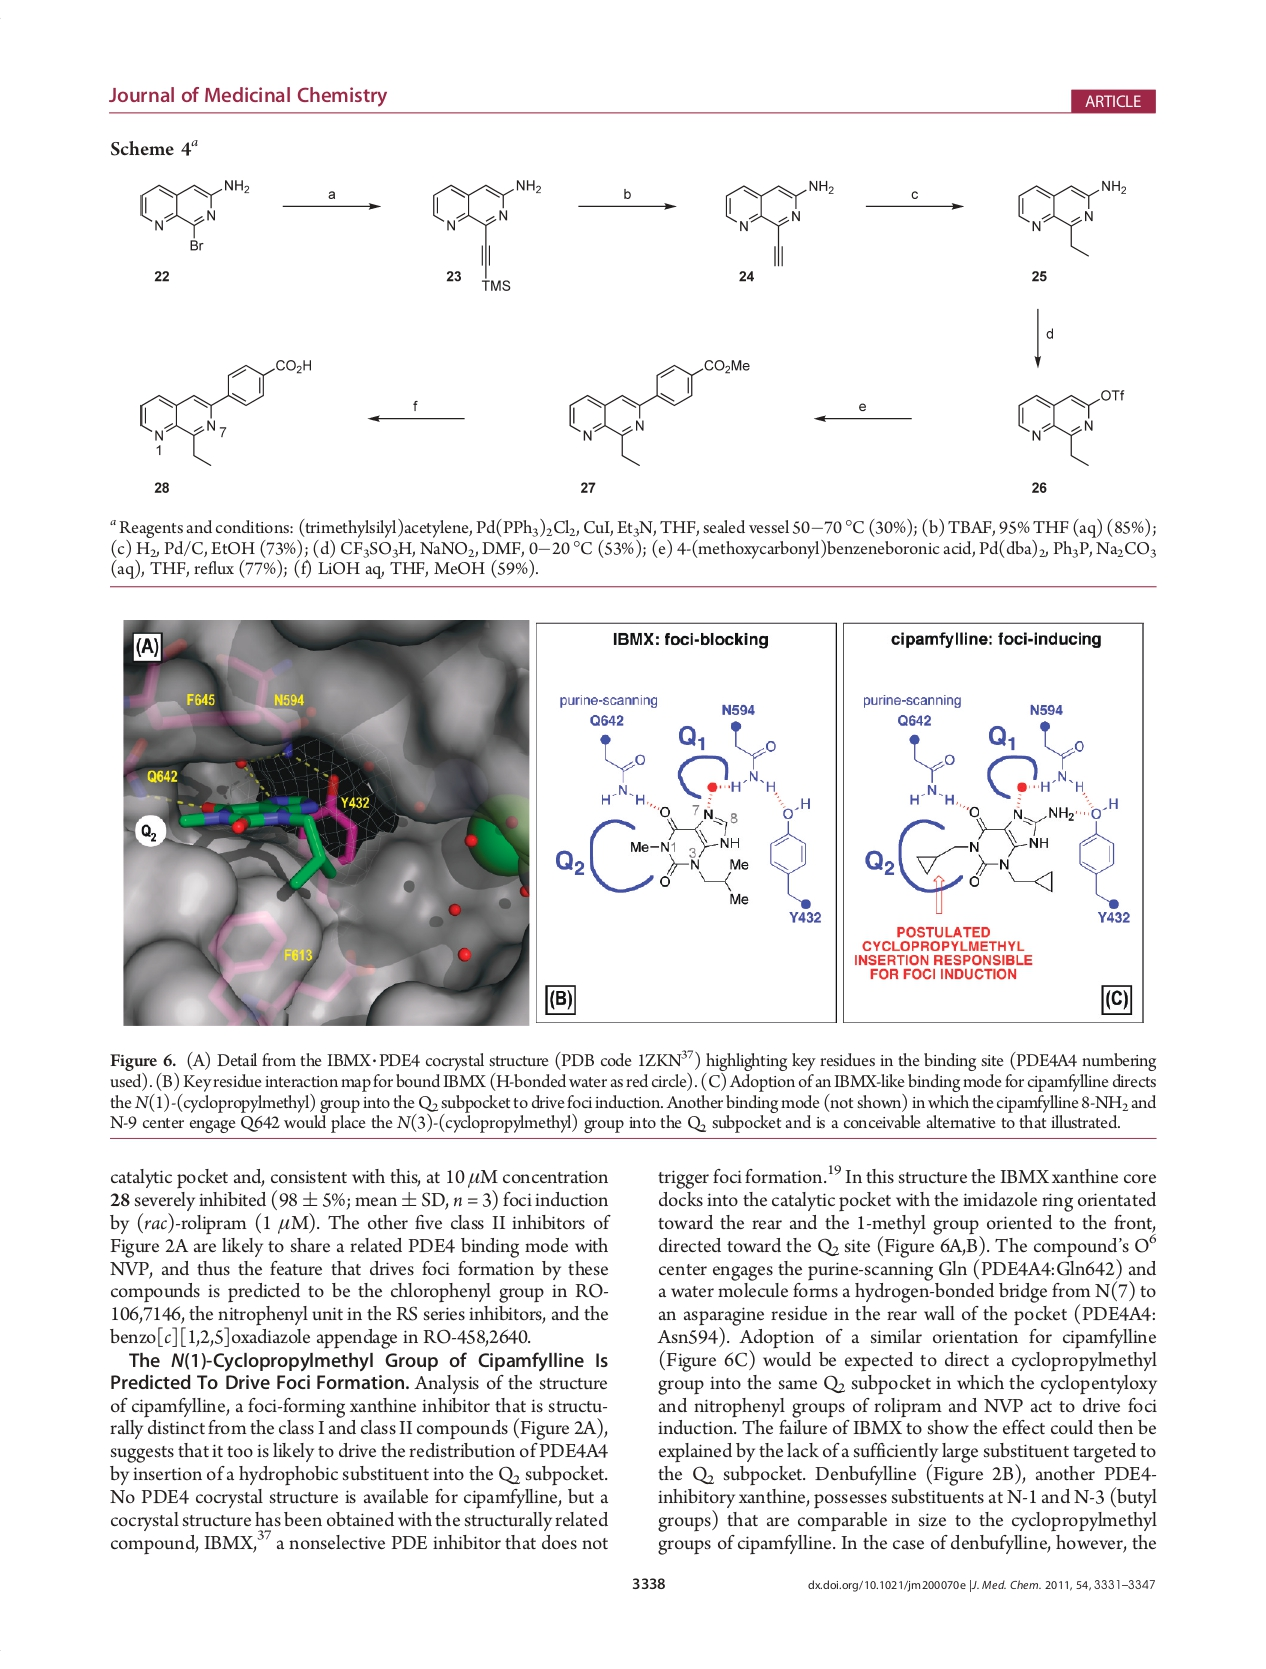exist_molecular: (910, 721, 1125, 912), (598, 721, 817, 910), (563, 351, 751, 469), (133, 352, 313, 469), (426, 176, 544, 294), (719, 174, 836, 270), (1015, 382, 1130, 469), (133, 176, 253, 258), (1011, 176, 1129, 258)
